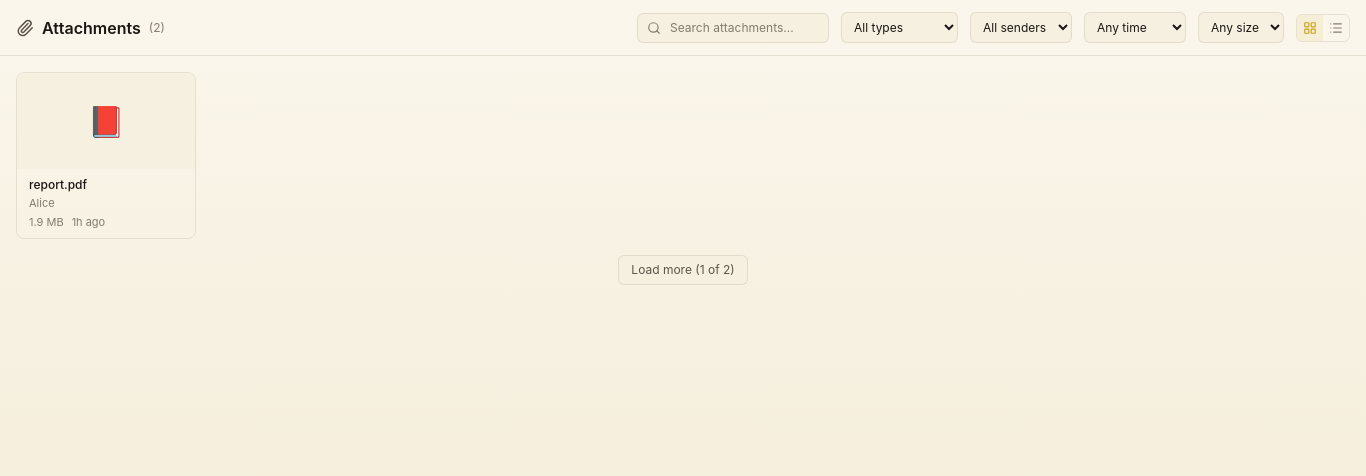
Test: AttachmentLibrary › loads the next page when more matches exist than are shown
Check: the text "report.pdf" is shown, box [29,177,87,192]
Check: the text "(2)" is shown, box [149,20,165,36]
Click the button "Load more (1 of 2)" at (683, 270), box [618,255,748,285]
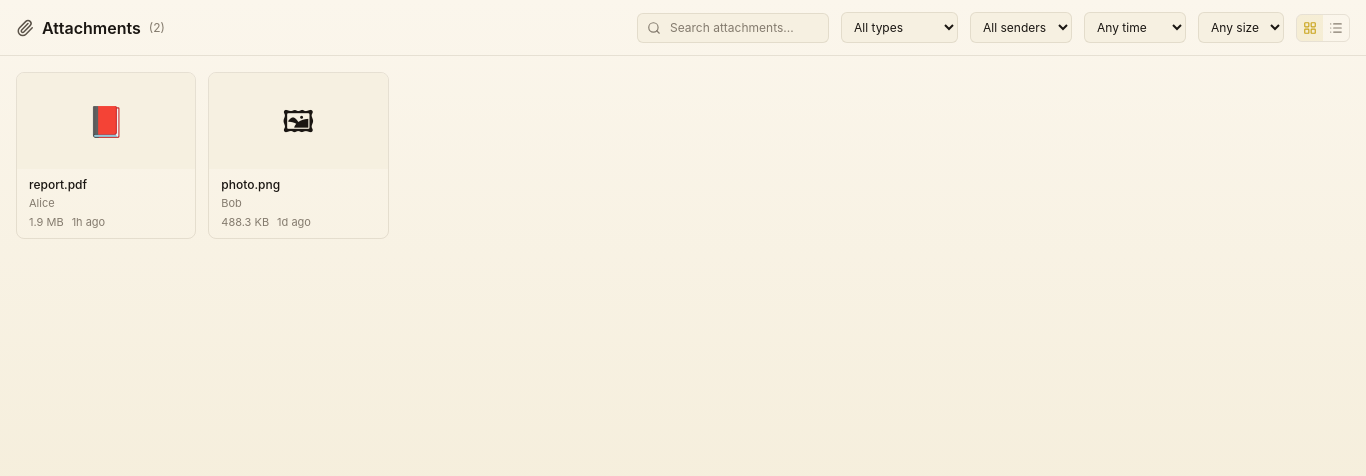
Check: the text "photo.png" is shown, box [221,177,280,192]
Check: the button "Load more" is gone
